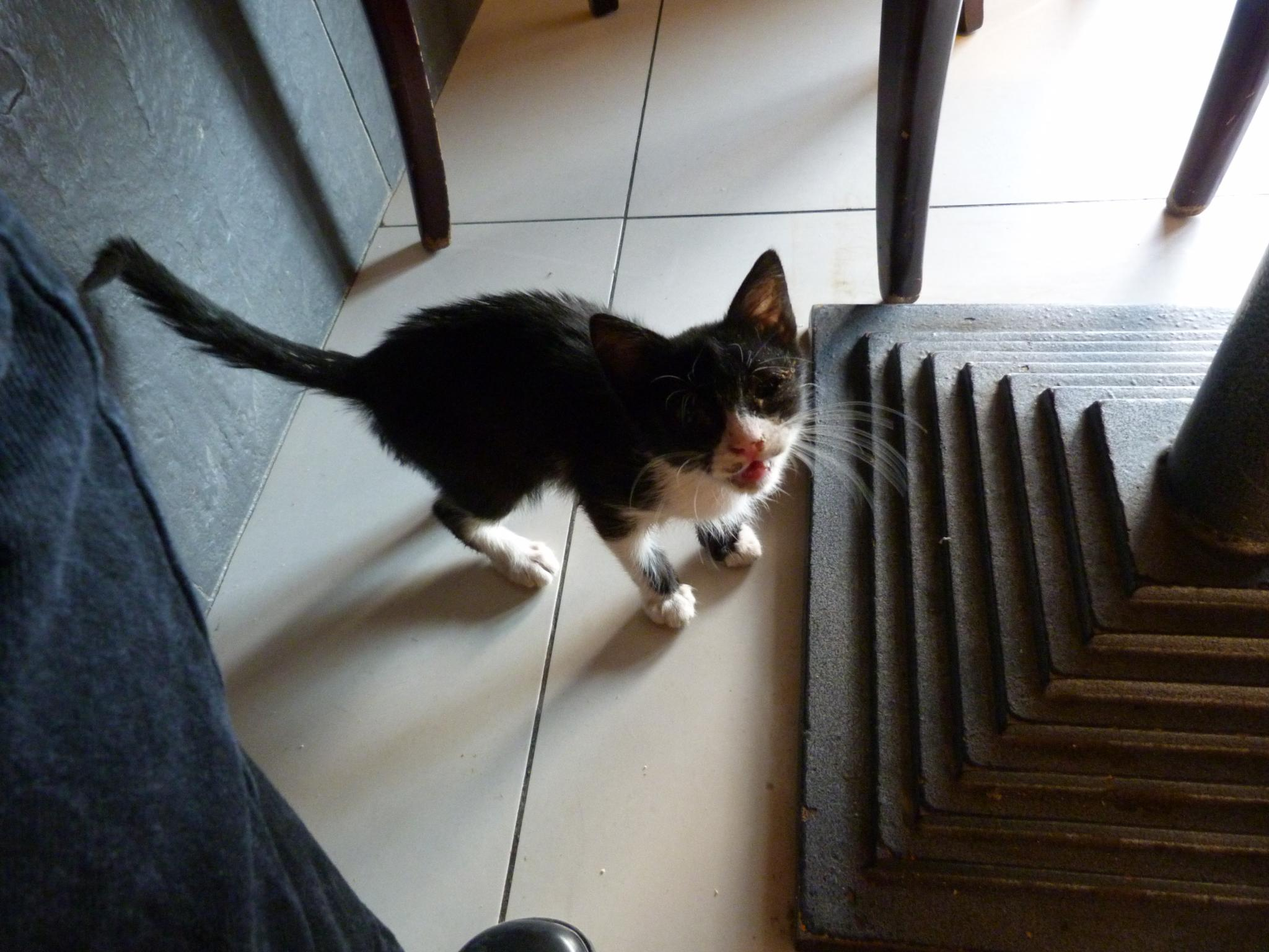cat: (76, 245, 934, 630)
